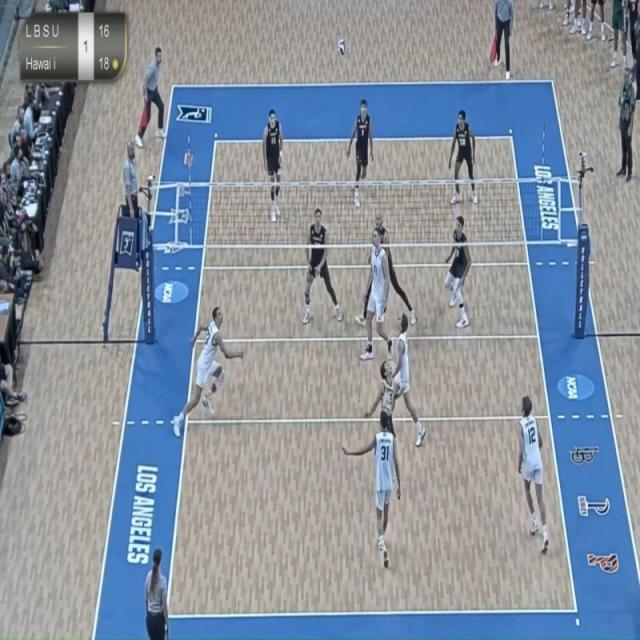volleyball: (335, 36, 350, 62)
